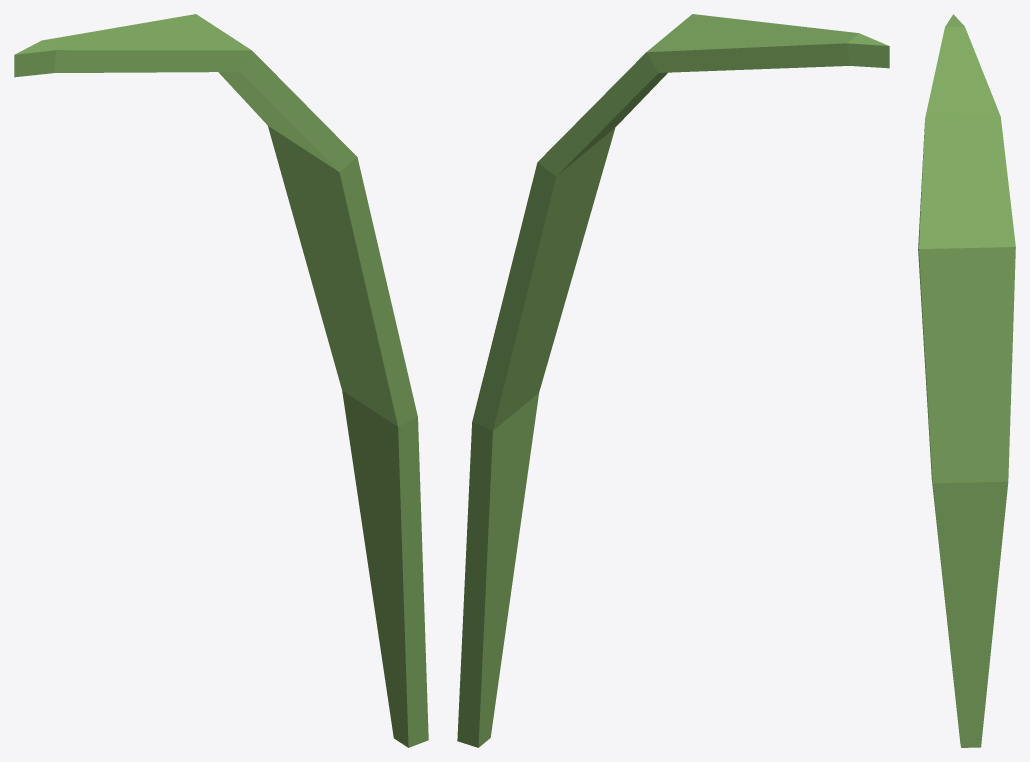
Rendered from Wheat_1.glb.
3 views of the same model, side by side, from view 1: azimuth 30°, elevation 25°; view 2: azimuth 150°, elevation 25°; view 3: azimuth 270°, elevation 25° (orthographic). The views are drawn at different scales.
Visible parts, largest first — view 1: Wheat_1; view 2: Wheat_1; view 3: Wheat_1.
Part boxes in pixels (left/top/right/bottom): Wheat_1: left=14, top=14, right=428, bottom=747; Wheat_1: left=457, top=14, right=889, bottom=747; Wheat_1: left=918, top=14, right=1015, bottom=747.
Size of the model in its own units: 0.1214 by 0.2194 by 0.0333.
